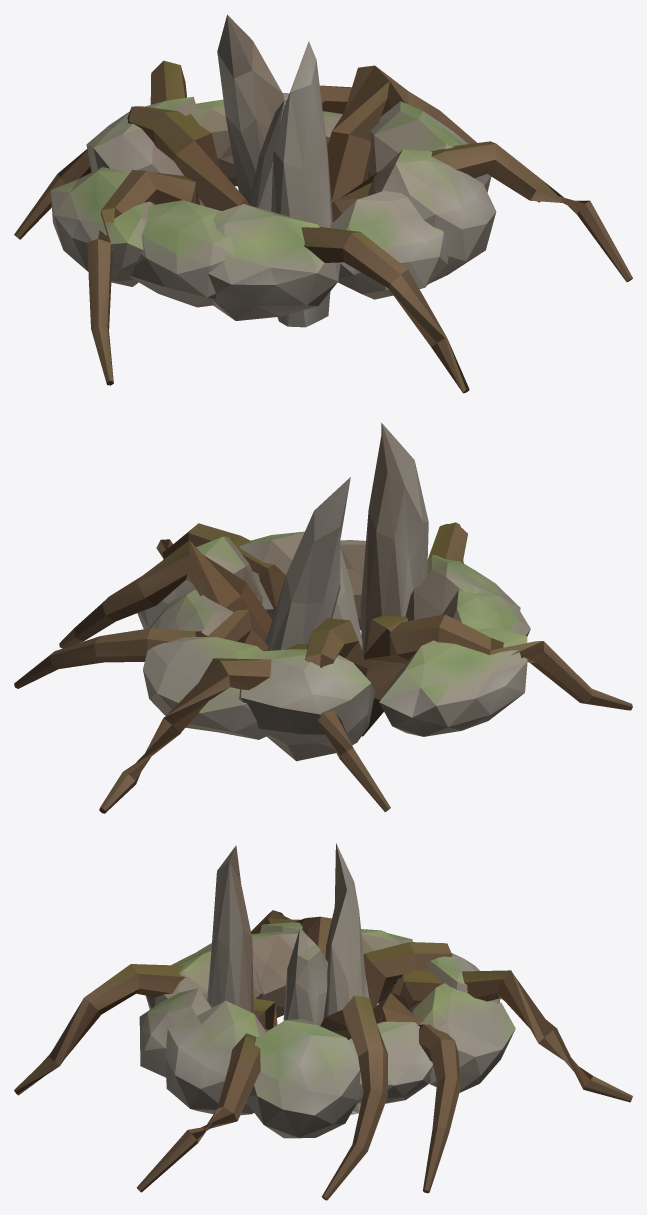
Rendered from roots.glb.
3 renders of one model, top to bottom at view 1: azimuth 30°, elevation 25°; view 2: azimuth 150°, elevation 25°; view 3: azimuth 270°, elevation 25°, orthographic. The views are drawn at different scales.
Visible parts, largest first — view 1: geo_earth_rupture_roots; view 2: geo_earth_rupture_roots; view 3: geo_earth_rupture_roots.
Part boxes in pixels (x1,y1,x2,y2): geo_earth_rupture_roots: (14, 14, 632, 393); geo_earth_rupture_roots: (14, 422, 632, 813); geo_earth_rupture_roots: (14, 843, 632, 1200).
Size of the model in its own units: 4.43 by 2.36 by 5.23.
